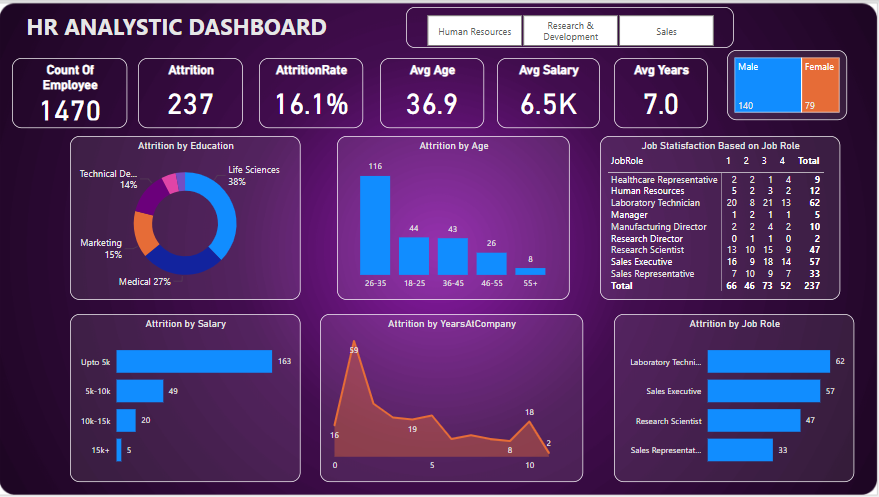

The page's visual inventory and layout, read from the dashboard file:
{"tool":"powerbi","page":{"name":"Page 1","canvas":[1280,720],"ordinal":0},"visuals":[{"type":"card","title":"Count Of Employee","fields":{"Values":["Count(HR_Analytics.EmpID)"]},"box":[25.2,82.9,165.9,101],"z":0},{"type":"card","title":"Attrition","fields":{"Values":["Sum(HR_Analytics.AttritionCount)"]},"box":[207.3,82.9,151.4,101],"z":1000},{"type":"card","title":"AttritionRate","fields":{"Values":["HR_Analytics.AttritionRate"]},"box":[382.2,82.9,149.6,101],"z":2000},{"type":"card","title":"Avg Age","fields":{"Values":["Avg(HR_Analytics.Age)"]},"box":[555.3,82.9,149.6,101],"z":3000},{"type":"card","title":"Avg Years","fields":{"Values":["Avg(HR_Analytics.YearsAtCompany)"]},"box":[892.4,82.9,135.2,101],"z":4000},{"type":"card","title":"Avg Salary","fields":{"Values":["Avg(HR_Analytics.MonthlyIncome)"]},"box":[724.7,82.9,147.8,101],"z":5000},{"type":"donutChart","title":"Attrition by Education","fields":{"Category":["HR_Analytics.EducationField"],"Y":["Sum(HR_Analytics.AttritionCount)"]},"box":[110,196.5,331.7,236.2],"z":6000},{"type":"columnChart","title":"Attrition by Age","fields":{"Category":["HR_Analytics.AgeGroup"],"Y":["Sum(HR_Analytics.AttritionCount)"]},"box":[494,196.5,335.3,236.2],"z":7000},{"type":"barChart","title":"Attrition by Salary","fields":{"Category":["HR_Analytics.SalarySlab"],"Y":["Sum(HR_Analytics.AttritionCount)"]},"box":[110,452.5,331.7,241.6],"z":8000},{"type":"barChart","title":"Attrition by Job Role","fields":{"Y":["Sum(HR_Analytics.AttritionCount)"],"Category":["HR_Analytics.JobRole"]},"box":[892.4,452.5,346.1,241.6],"z":9000},{"type":"areaChart","title":"Attrition by YearsAtCompany","fields":{"Category":["HR_Analytics.YearsAtCompany"],"Y":["Sum(HR_Analytics.AttritionCount)"]},"box":[468.7,452.5,378.6,241.6],"z":10000},{"type":"treemap","title":"Gender","fields":{"Group":["HR_Analytics.Gender"],"Values":["Sum(HR_Analytics.AttritionCount)"]},"box":[1055.5,72,172.8,100.8],"z":11000},{"type":"pivotTable","title":"Job Statisfaction Based on Job Role","fields":{"Rows":["HR_Analytics.JobRole"],"Columns":["HR_Analytics.JobSatisfaction"],"Values":["Sum(HR_Analytics.AttritionCount)"]},"box":[872.6,196.5,346.1,236.2],"z":12000},{"type":"slicer","fields":{"Values":["HR_Analytics.Department"]},"box":[593.3,10.1,472.3,59],"z":13000},{"type":"textbox","box":[41.8,10.1,541.4,61.9],"z":14000}]}

Visuals, with their boxes in screenshot pixels (x1, y1, x2, y2), scaled from the page's 1280x720 canvas onto the 879x497 screenshot:
"Count Of Employee" card: [x1=17, y1=57, x2=131, y2=127]
"Attrition" card: [x1=142, y1=57, x2=246, y2=127]
"AttritionRate" card: [x1=262, y1=57, x2=365, y2=127]
"Avg Age" card: [x1=381, y1=57, x2=484, y2=127]
"Avg Years" card: [x1=613, y1=57, x2=706, y2=127]
"Avg Salary" card: [x1=498, y1=57, x2=599, y2=127]
"Attrition by Education" donutChart: [x1=76, y1=136, x2=303, y2=299]
"Attrition by Age" columnChart: [x1=339, y1=136, x2=569, y2=299]
"Attrition by Salary" barChart: [x1=76, y1=312, x2=303, y2=479]
"Attrition by Job Role" barChart: [x1=613, y1=312, x2=851, y2=479]
"Attrition by YearsAtCompany" areaChart: [x1=322, y1=312, x2=582, y2=479]
"Gender" treemap: [x1=725, y1=50, x2=843, y2=119]
"Job Statisfaction Based on Job Role" pivotTable: [x1=599, y1=136, x2=837, y2=299]
slicer - HR_Analytics.Department: [x1=407, y1=7, x2=732, y2=48]
textbox: [x1=29, y1=7, x2=400, y2=50]
